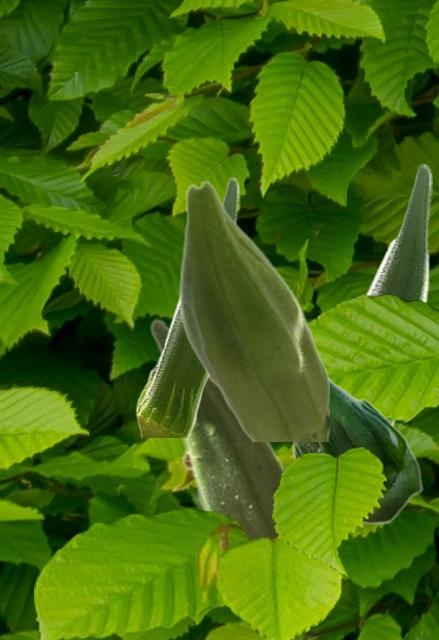okra: (178, 180, 328, 440), (149, 317, 286, 537), (135, 176, 238, 436), (289, 377, 422, 524), (363, 162, 431, 423)
